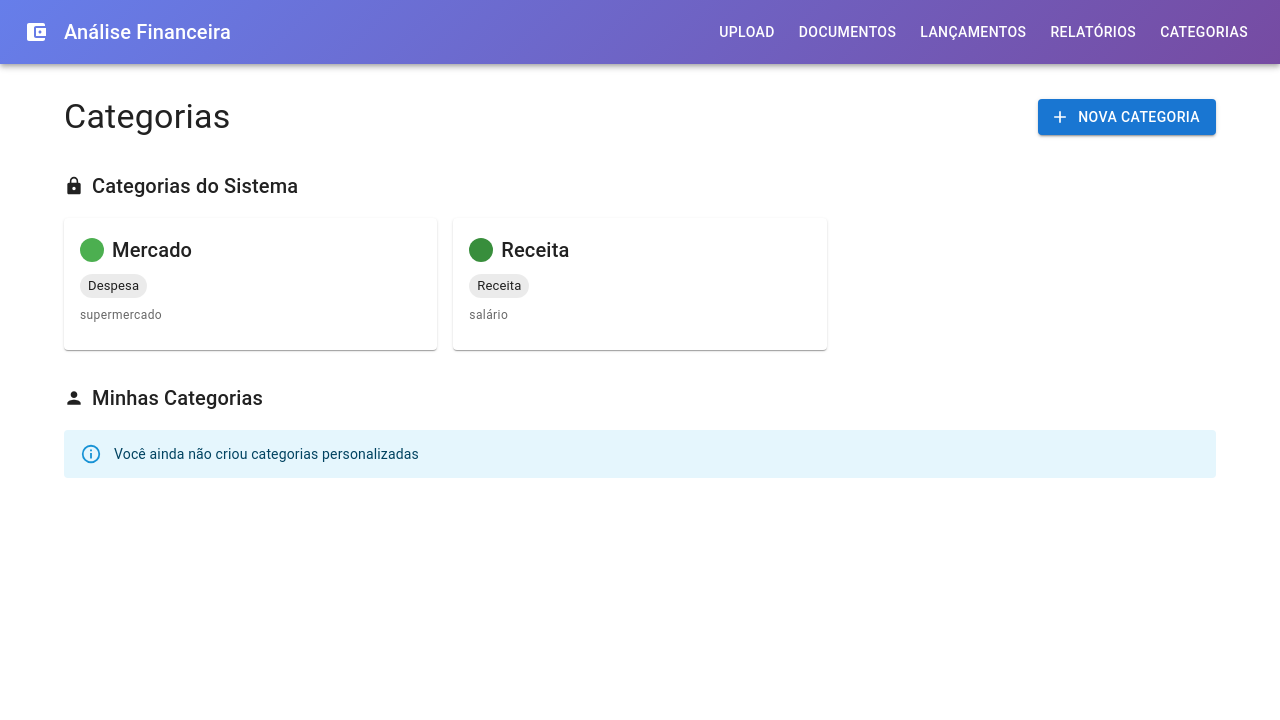
Test: CategoriasPage › should open and close create dialog
Click the button "Nova Categoria". click: [1127, 117]
box: [1038,99,1216,135]
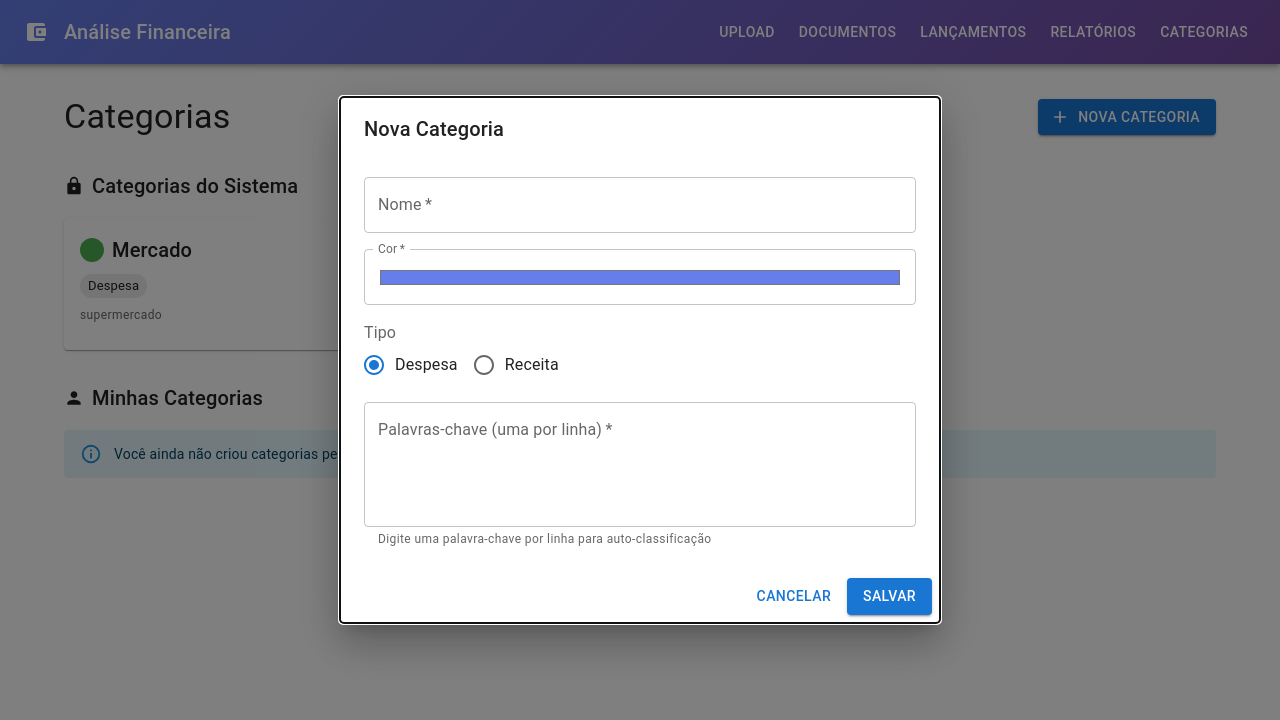
Result: the field labelled "Nome *" is shown at [364,177,916,233]
Click the button "Cancelar". click: [794, 596]
box: [749,578,839,615]
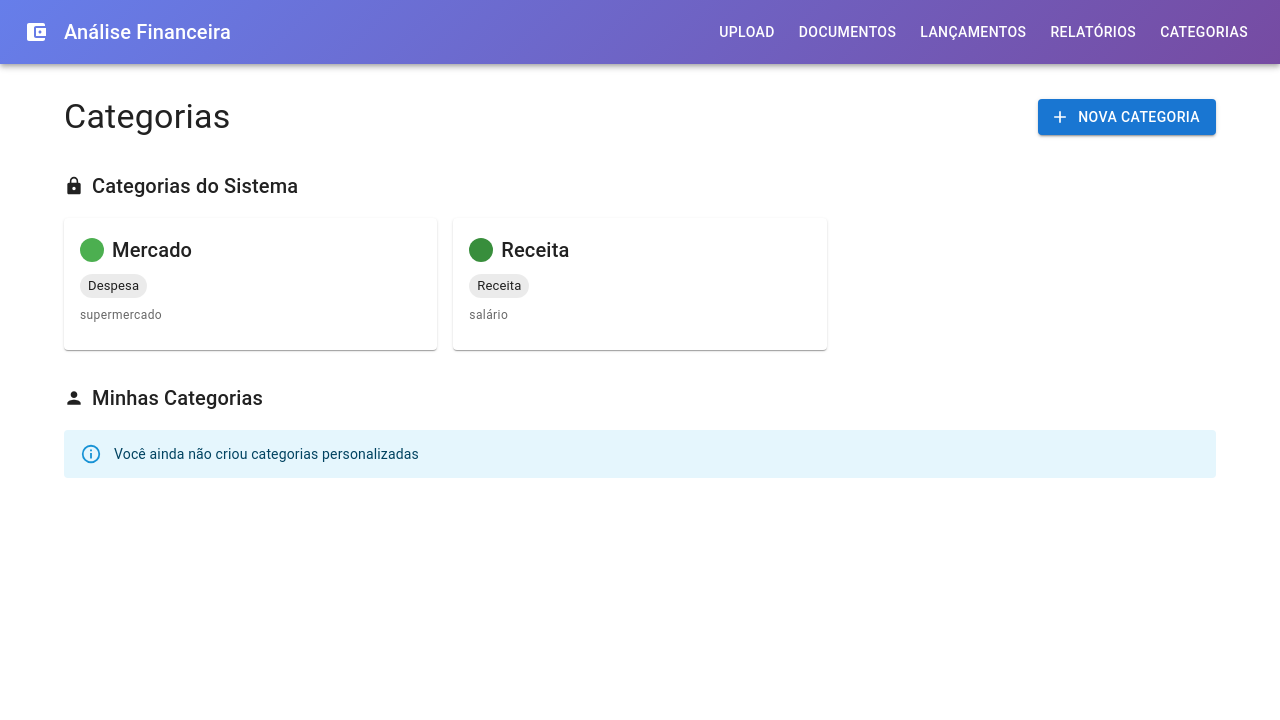
Result: the label labelled "Nome" is gone
